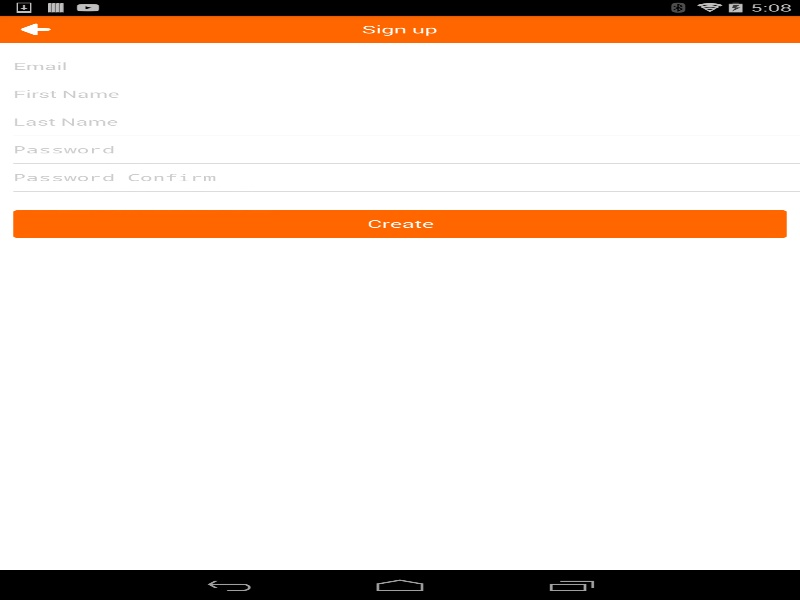Button: (13, 210, 786, 237), (13, 19, 57, 39)
Input: (13, 52, 800, 80), (13, 135, 800, 163), (13, 163, 800, 191), (13, 80, 800, 107), (13, 108, 800, 135)
